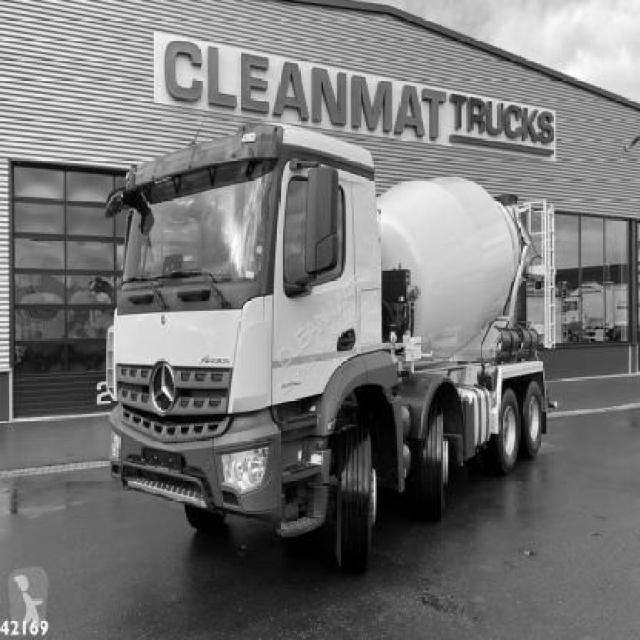Concrete Mixer: (105, 125, 560, 578)
